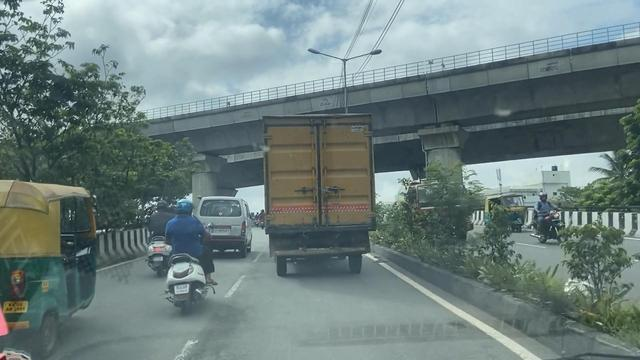HMV: (261, 113, 376, 274)
LMV: (160, 202, 212, 306)
